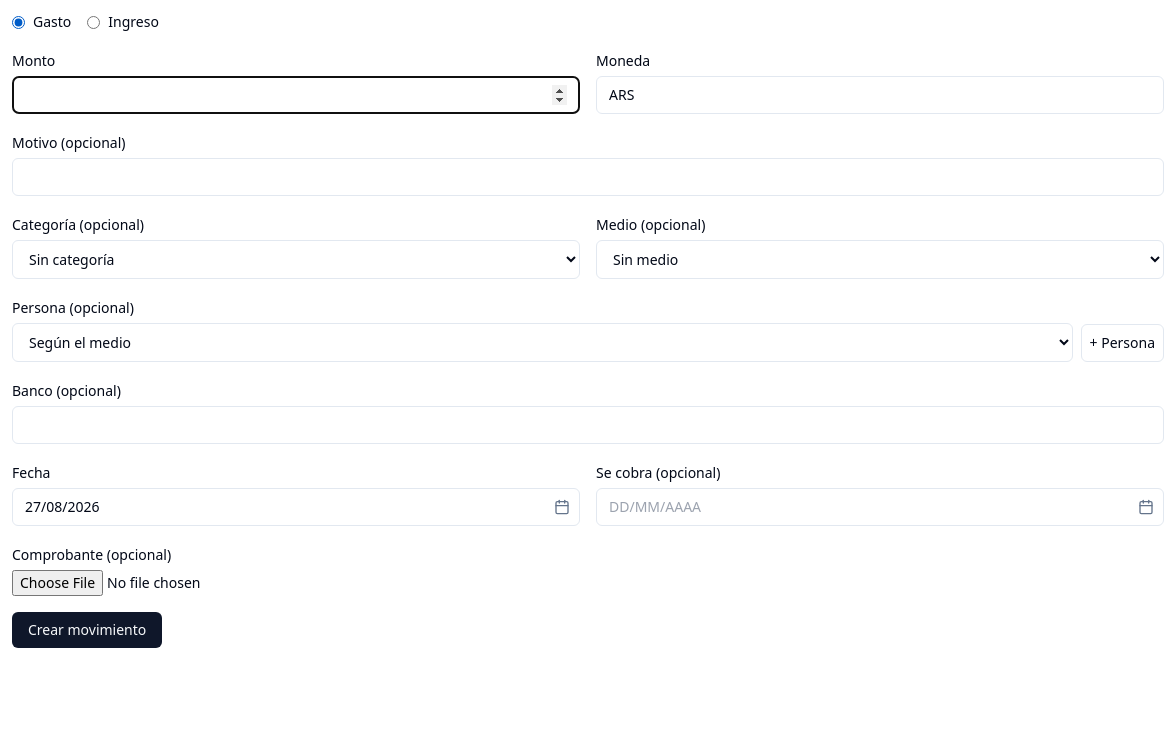
Test: TransactionForm › permite crear una persona del grupo (placeholder) desde el alta y la selecciona (IDENT-1)
Click the button "+ Persona".
click(1122, 342)  # box [1080, 324, 1164, 362]
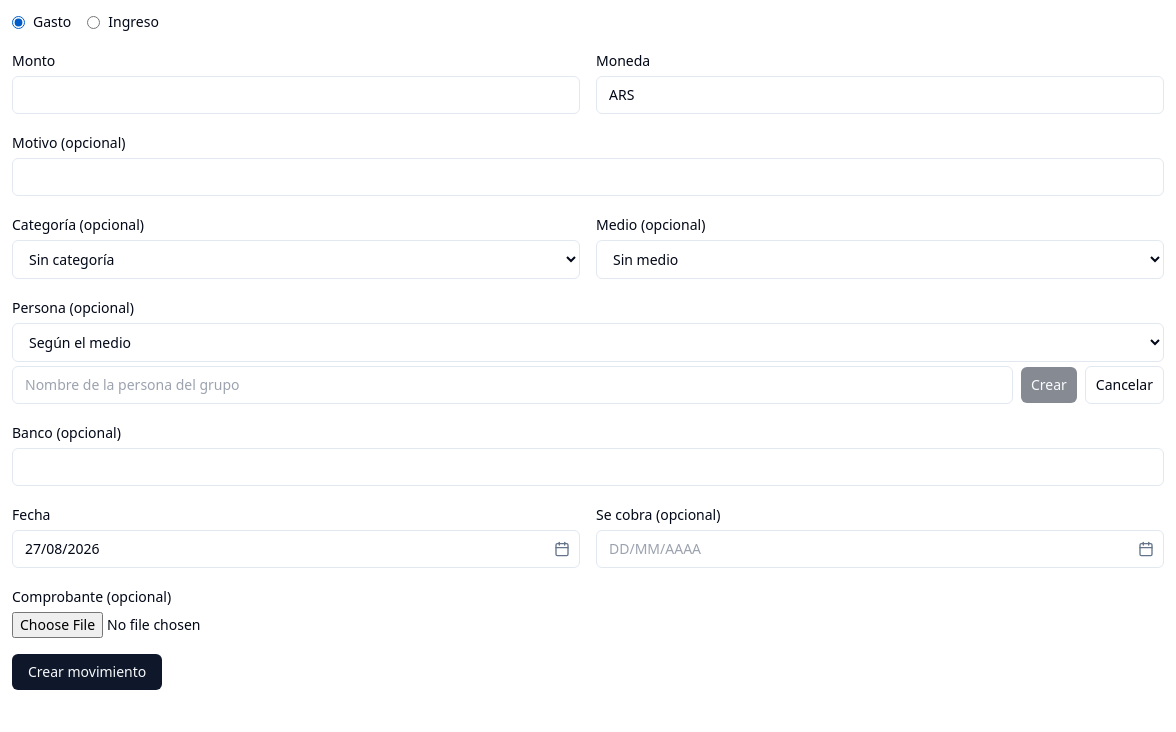
Type "Tía Ana" into the field labelled "Nombre de la persona del grupo".
click(512, 385); type("Tía Ana")  # box [12, 366, 1013, 404]
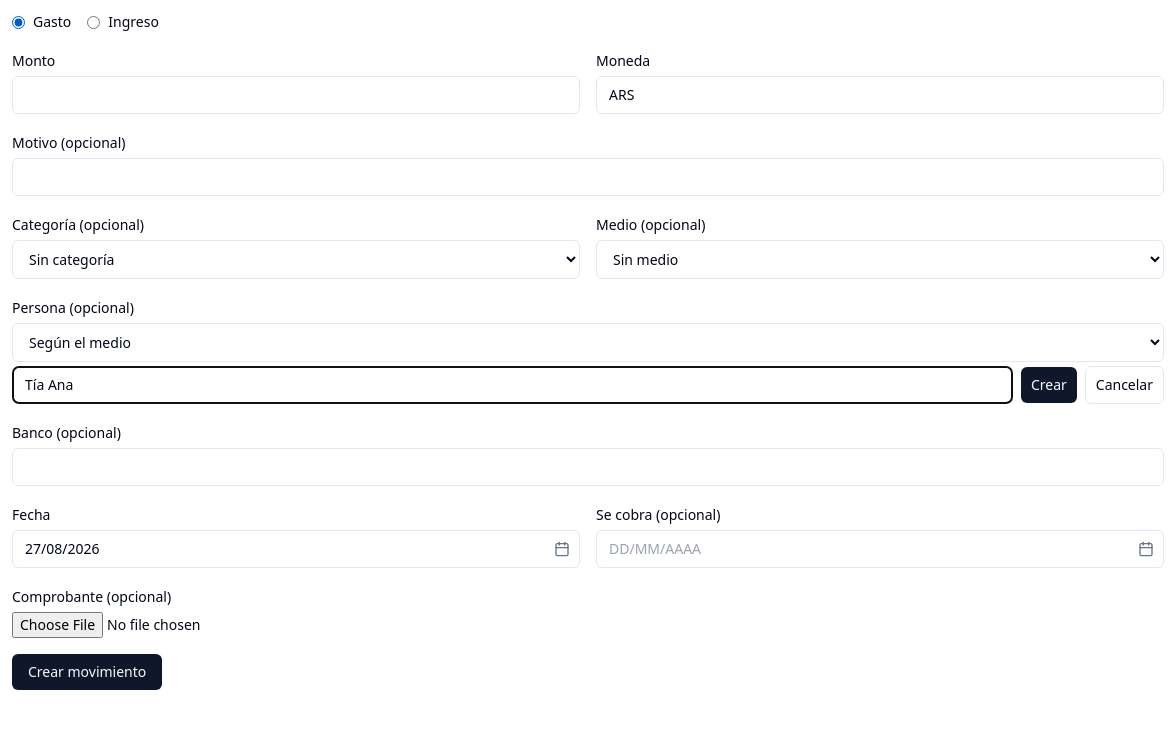
Click the button "Crear".
click(1049, 385)  # box [1021, 367, 1077, 403]
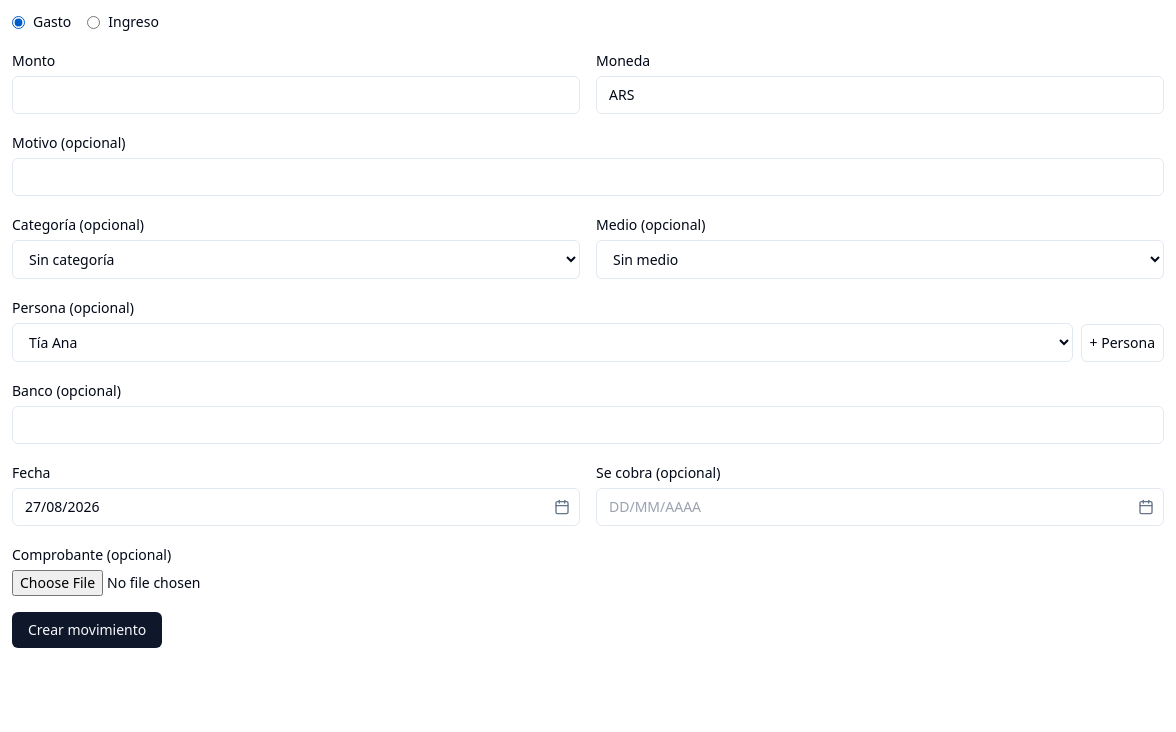
Check: the dropdown labelled "Persona (opcional)" shows "Tía Ana", box [12, 323, 1072, 362]
